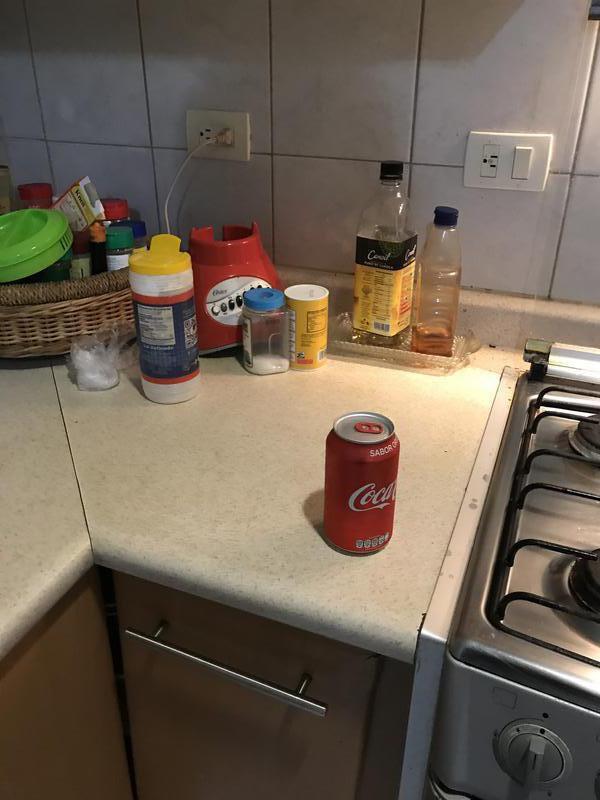coca_cola: (325, 415, 399, 557)
